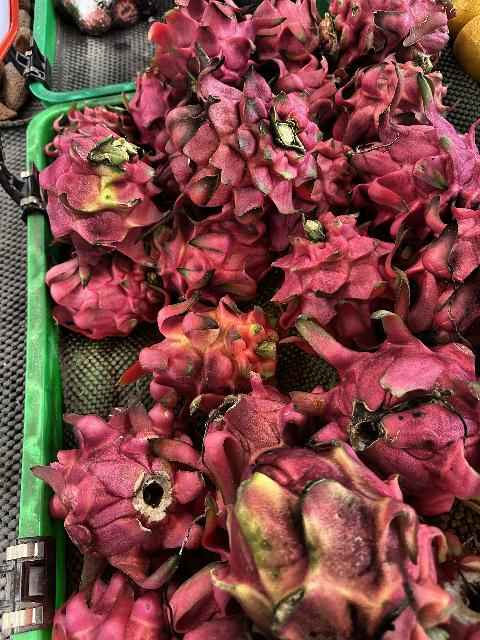buah-naga-belum-matang: (212, 440, 454, 640), (36, 138, 150, 246), (134, 306, 274, 390)
buah-naga-matang: (286, 306, 480, 500), (35, 391, 200, 579), (162, 54, 322, 216), (354, 96, 480, 206), (279, 216, 387, 340), (394, 208, 480, 358), (332, 58, 450, 150), (181, 384, 301, 472), (41, 246, 159, 334), (149, 212, 271, 292), (149, 1, 249, 88), (322, 0, 447, 66), (51, 578, 165, 640), (263, 50, 337, 121), (47, 101, 129, 149), (254, 1, 322, 54), (123, 70, 174, 134)
